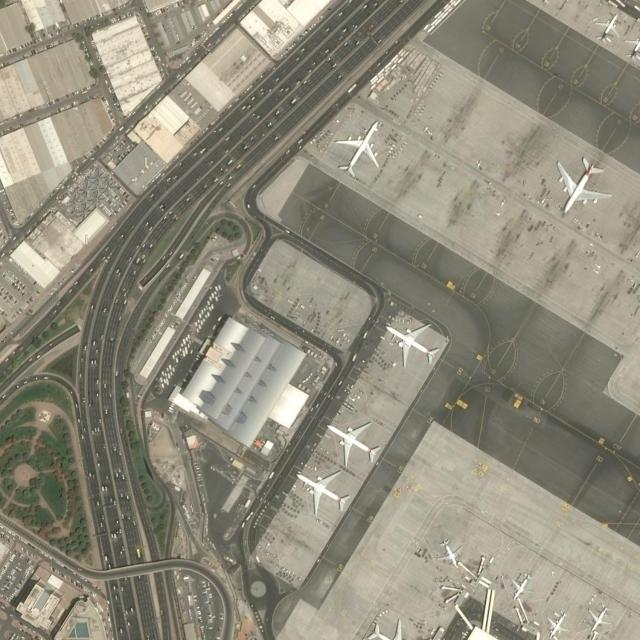Aircraft: (554, 152, 612, 214), (385, 319, 439, 369), (325, 420, 382, 466), (335, 120, 381, 176), (296, 467, 350, 512), (363, 615, 413, 640), (436, 537, 462, 567), (594, 12, 618, 44), (588, 601, 612, 631), (510, 571, 534, 599), (545, 609, 569, 637), (625, 30, 640, 61)
